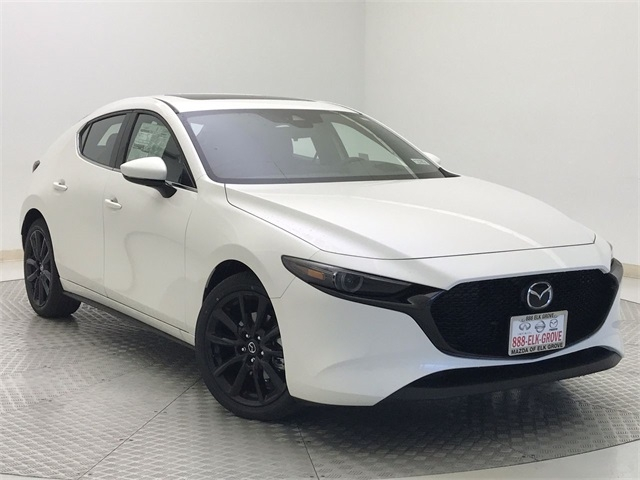Mazda3 Hatchback: (20, 93, 623, 422)
